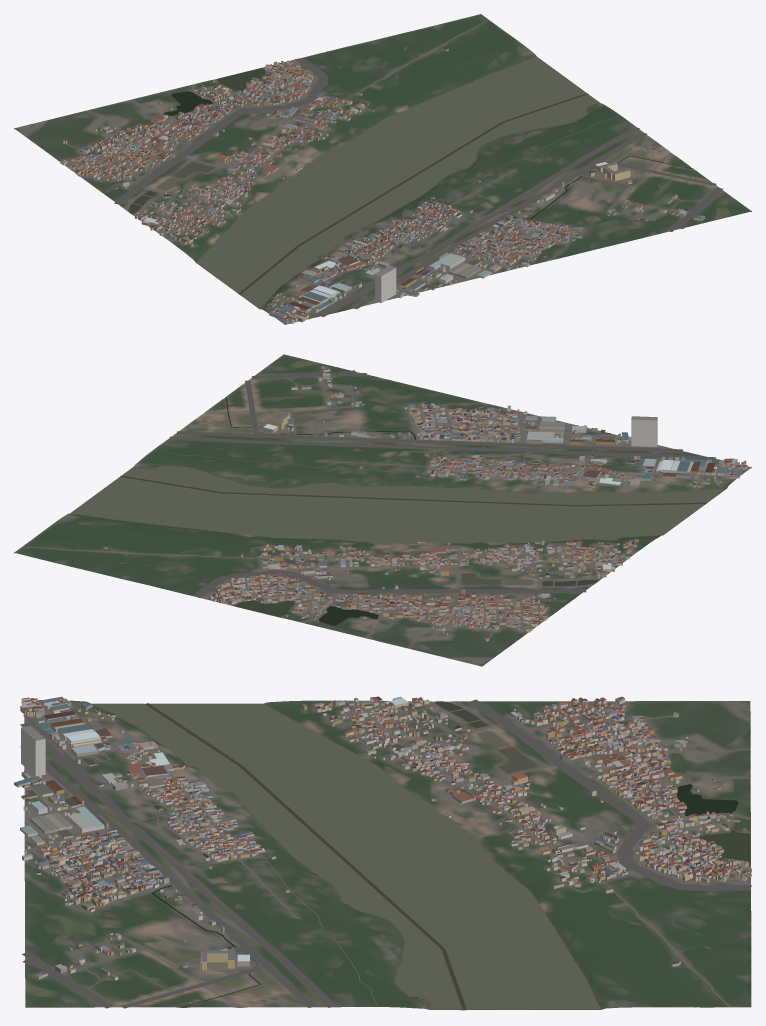
3 renders of one model, top to bottom at view 1: azimuth 30°, elevation 25°; view 2: azimuth 150°, elevation 25°; view 3: azimuth 270°, elevation 25°, orthographic. The views are drawn at different scales.
Visible parts, largest first — view 1: ground, water, buildings, roads; view 2: ground, water, buildings, roads; view 3: ground, water, buildings, roads.
Boxes of the visible parts, left/top/right/bottom form: ground: left=14, top=14, right=751, bottom=324; water: left=128, top=56, right=693, bottom=308; buildings: left=60, top=47, right=704, bottom=323; roads: left=20, top=19, right=723, bottom=321; ground: left=14, top=354, right=751, bottom=666; water: left=70, top=397, right=724, bottom=625; buildings: left=104, top=366, right=747, bottom=641; roads: left=22, top=370, right=747, bottom=665; ground: left=24, top=700, right=751, bottom=1010; water: left=94, top=701, right=750, bottom=1009; buildings: left=14, top=696, right=751, bottom=980; roads: left=20, top=699, right=751, bottom=1008.
Bounding box in the file's own units: 1414 × 85.95 × 1425.
